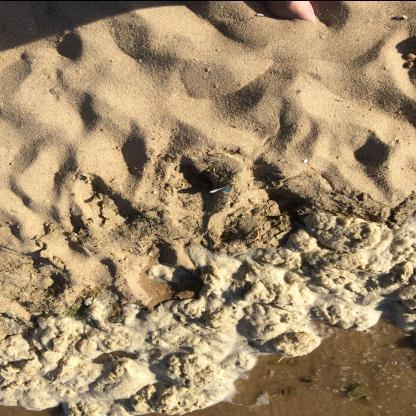kagit: (210, 185, 232, 194)
